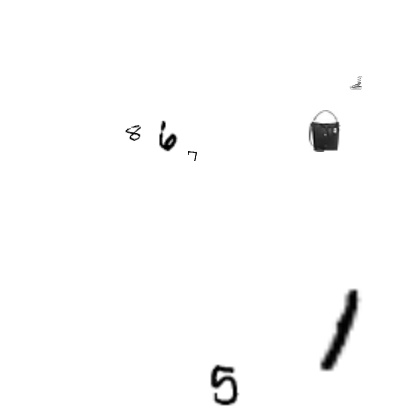1: (285, 274, 397, 386)
5: (195, 355, 251, 411)
6: (146, 118, 188, 160)
7: (186, 147, 200, 161)
8: (123, 122, 145, 144)
Bag: (303, 110, 345, 152)
Sandal: (349, 76, 363, 90)
